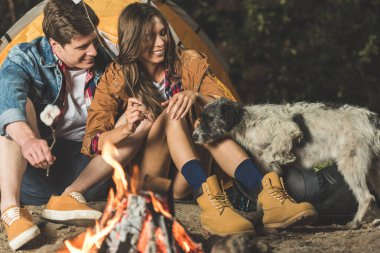fire: (99, 144, 131, 208)
